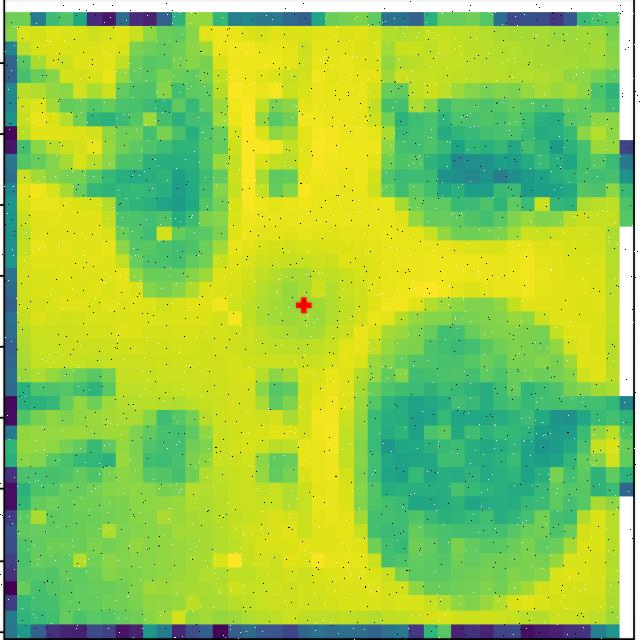Concrete: (410, 96, 587, 218)
Glass: (112, 42, 231, 295)
Metal: (377, 321, 578, 576)
Wood: (129, 406, 220, 492)
